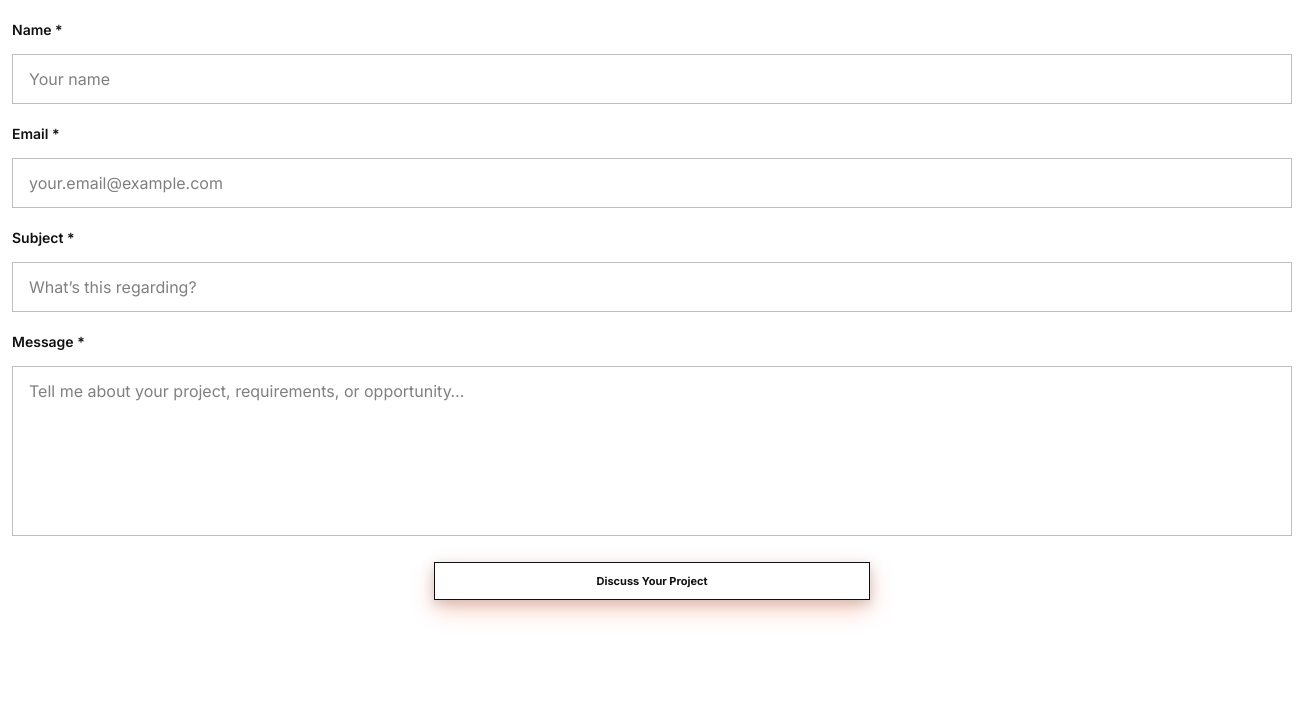
Test case: ContactForm › shows success message after submission
Type "John Doe" into the field labelled "Name *" at [652, 79], box x1=12 y1=54 x2=1292 y2=104
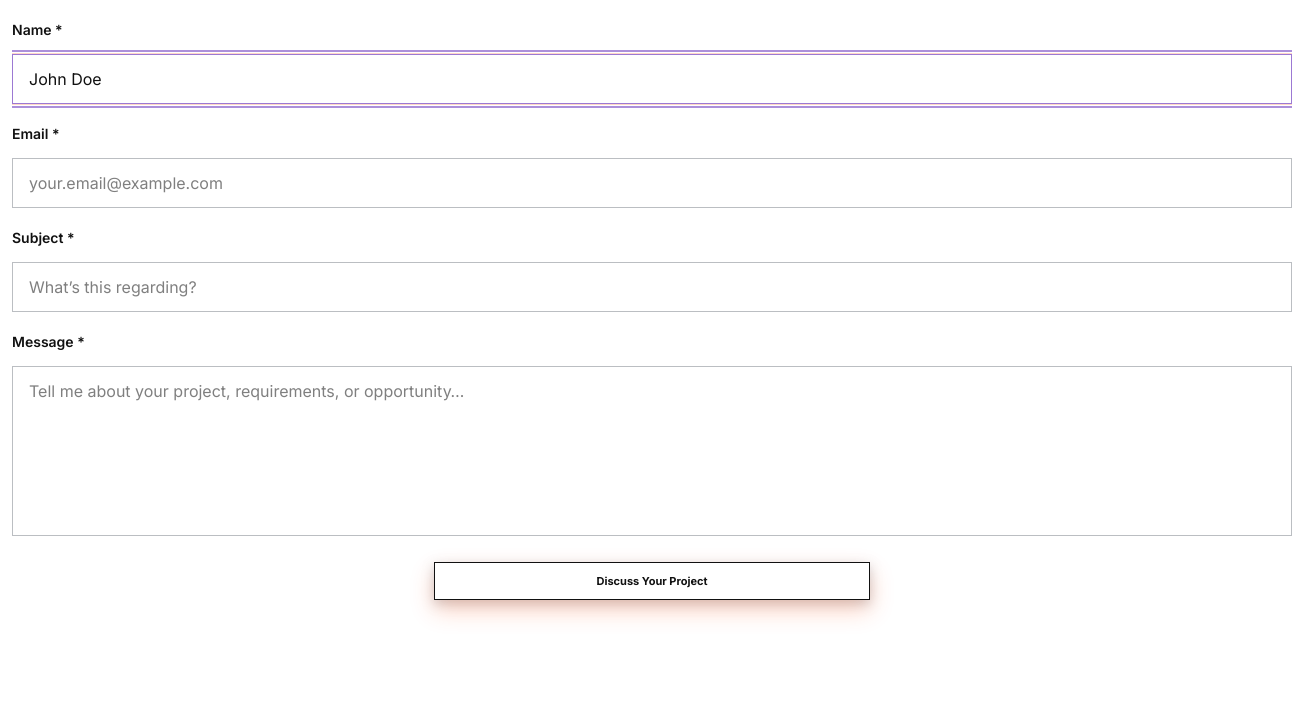
Type "john@example.com" into the field labelled "Email *" at [652, 183], box x1=12 y1=158 x2=1292 y2=208
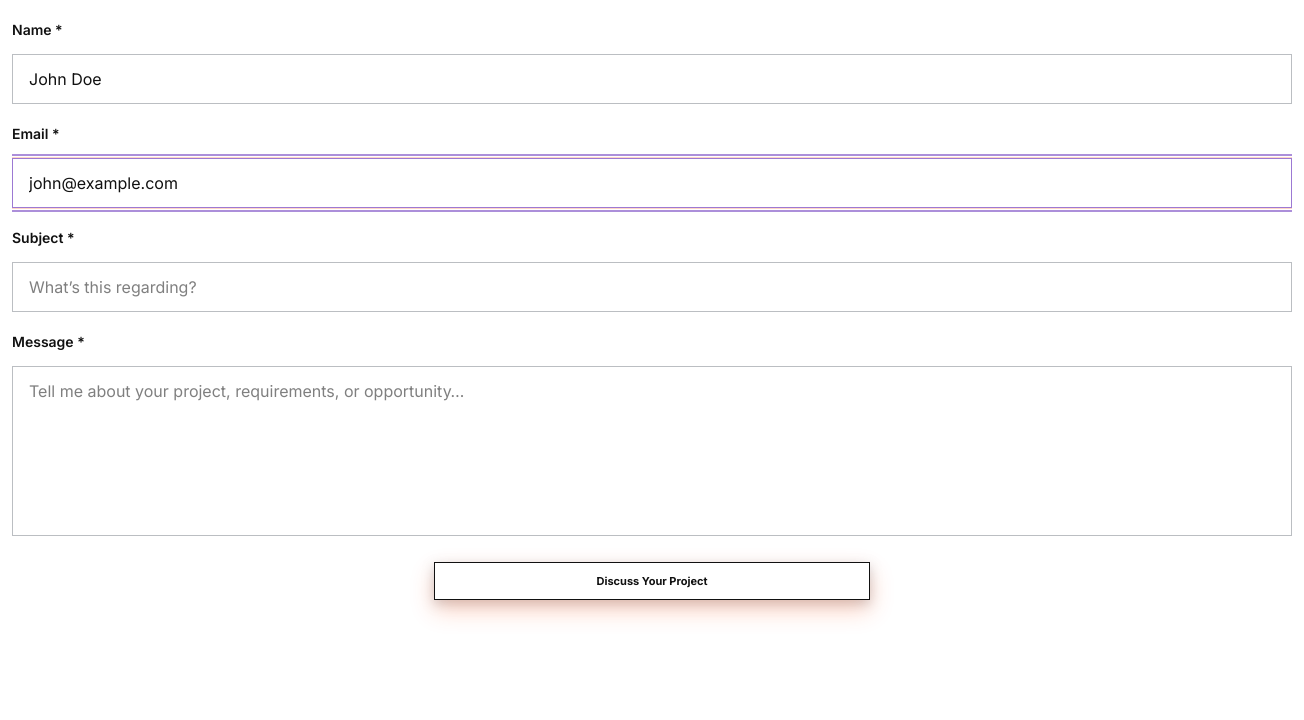
Type "Test Subject" into the field labelled "Subject *" at [652, 287], box x1=12 y1=262 x2=1292 y2=312
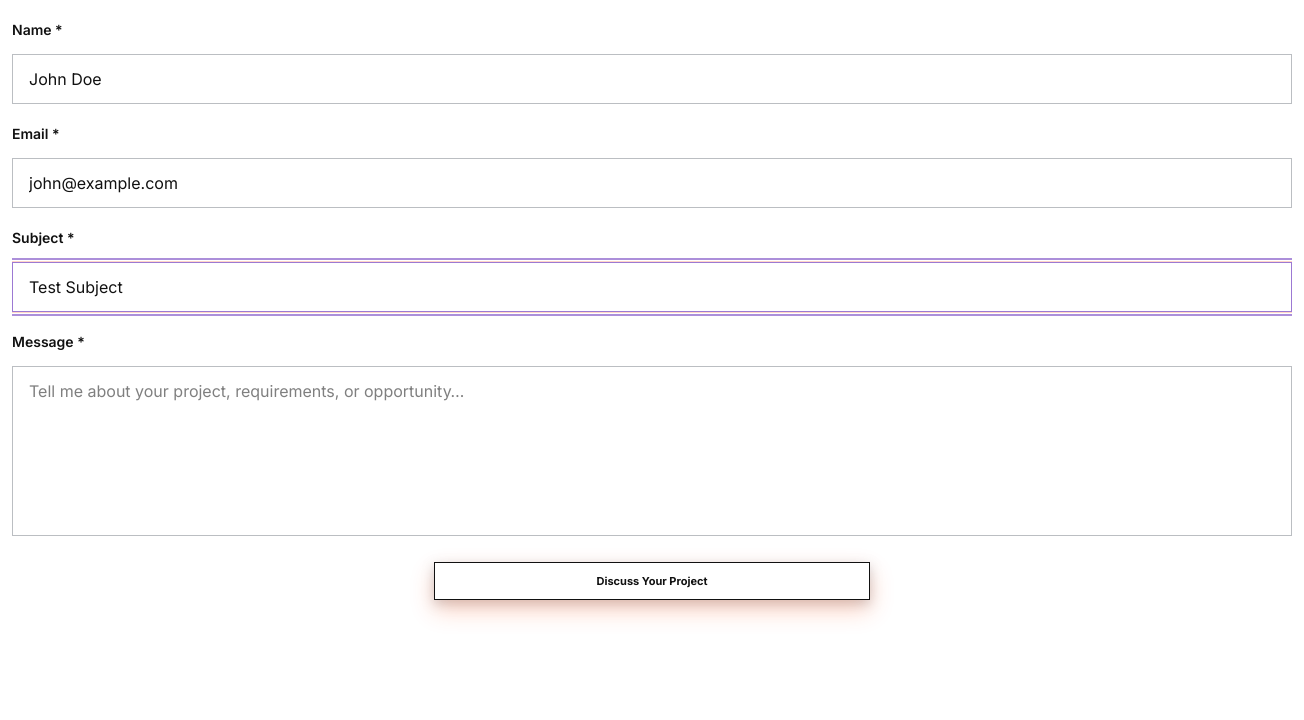
Type "Test message content" into the text box labelled "Message *" at [652, 451], box x1=12 y1=366 x2=1292 y2=536
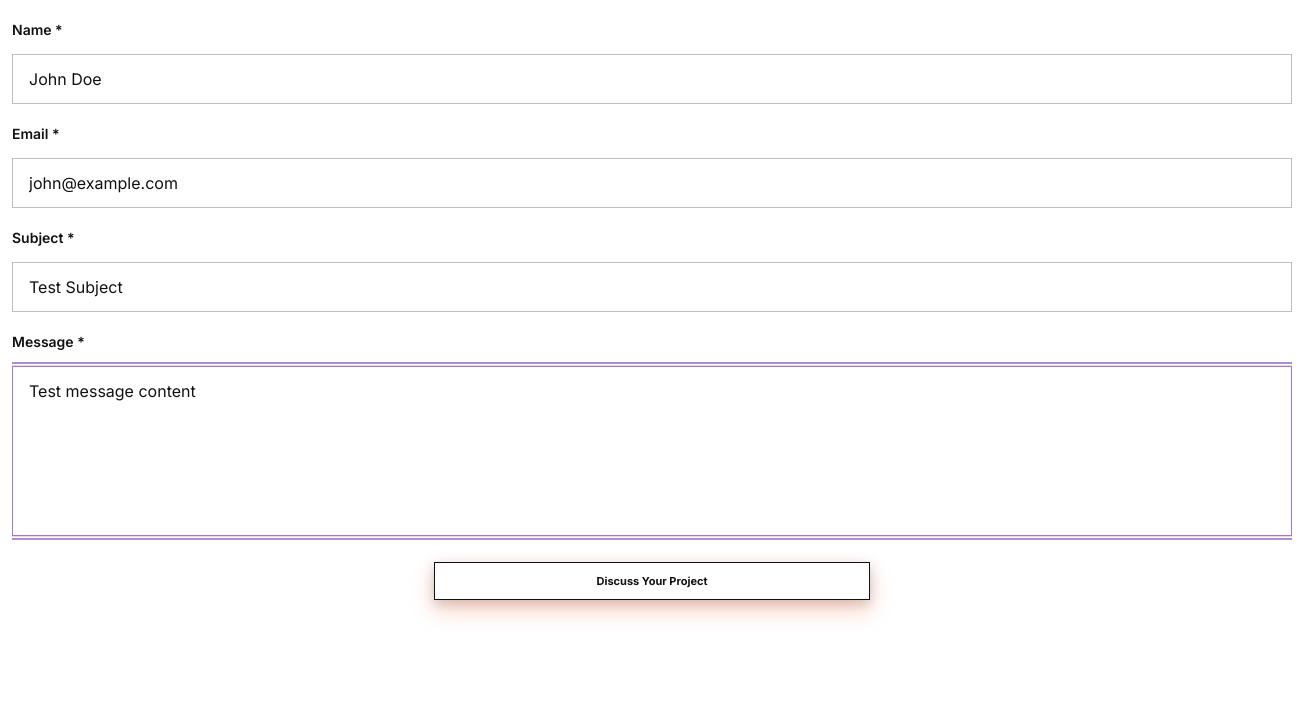
Click the button "Discuss Your Project" at [652, 581], box x1=434 y1=562 x2=870 y2=600
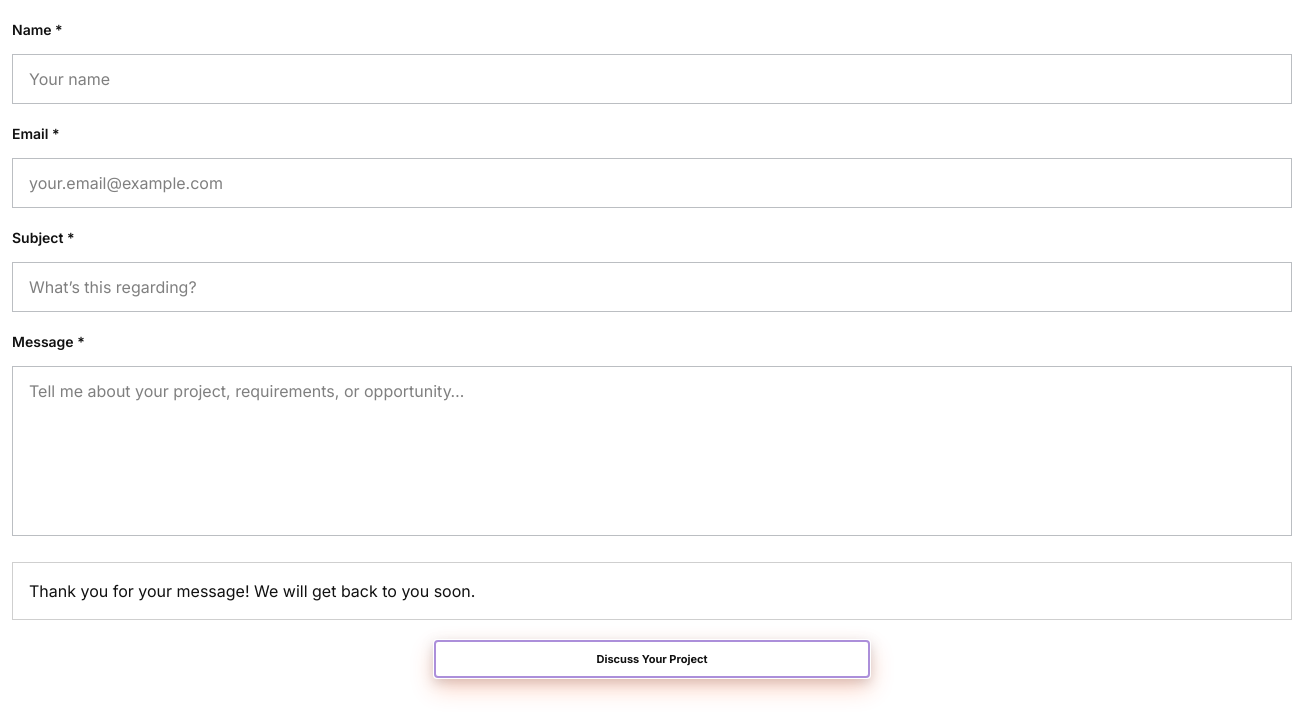
Result: the text "Thank you for your message! We will get back to you soon." is shown at x1=12 y1=562 x2=1292 y2=620
